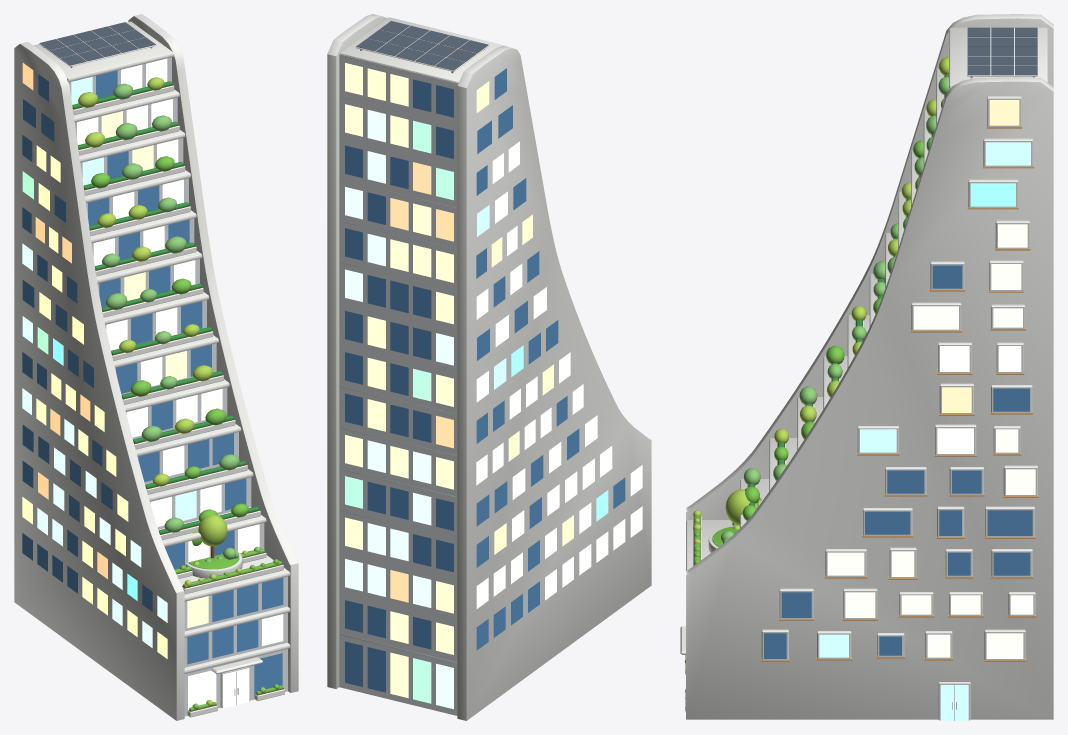
The model's file is torre_degraus_inclinada.glb.
The picture shows the model from 3 angles, left to right: view 1: azimuth 30°, elevation 25°; view 2: azimuth 150°, elevation 25°; view 3: azimuth 270°, elevation 25°; orthographic projection. The views are drawn at different scales.
Visible parts, largest first — view 1: torre_degraus_inclinada; view 2: torre_degraus_inclinada; view 3: torre_degraus_inclinada.
Part boxes in pixels (box(x1,y1,x2,y2)): torre_degraus_inclinada: box(14, 14, 298, 720); torre_degraus_inclinada: box(327, 14, 651, 720); torre_degraus_inclinada: box(680, 14, 1053, 720).
Bounding box in the file's own units: 11.73 × 49.8 × 26.4.
7 materials, 1 textured.
